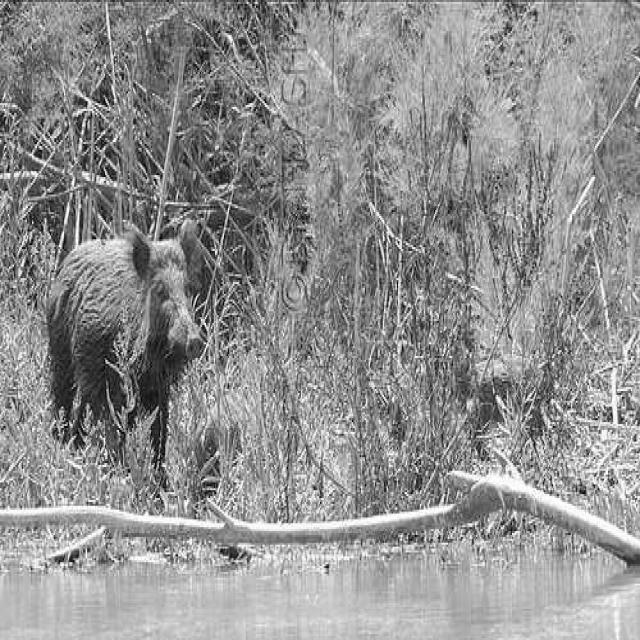boar: (47, 218, 202, 479)
